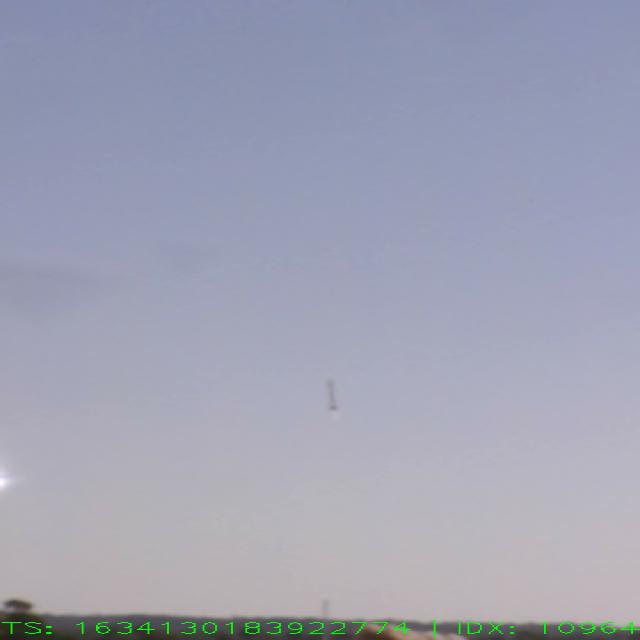Rocket: (326, 378, 340, 411)
